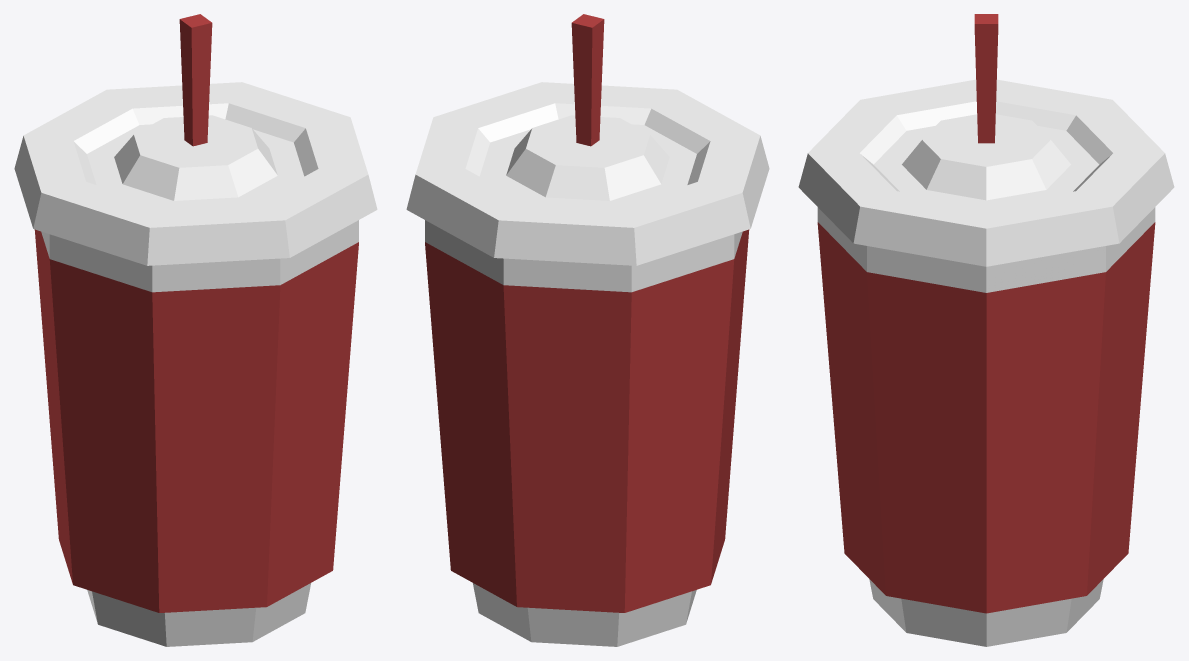
Rendered from Soda Cup.fbx.
The picture shows the model from 3 angles, left to right: view 1: azimuth 30°, elevation 25°; view 2: azimuth 150°, elevation 25°; view 3: azimuth 270°, elevation 25°; orthographic projection.
Parts seen in each view (by area): view 1: mergedBlocks; view 2: mergedBlocks; view 3: mergedBlocks.
Boxes of the visible parts, x1,y1,x2,y2 form: mergedBlocks: (14,14,377,646); mergedBlocks: (406,14,769,646); mergedBlocks: (798,14,1174,646).
Size of the model in its own units: 2.54 by 4.32 by 2.54.
